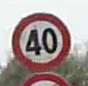limite 40: (10, 11, 71, 68)
